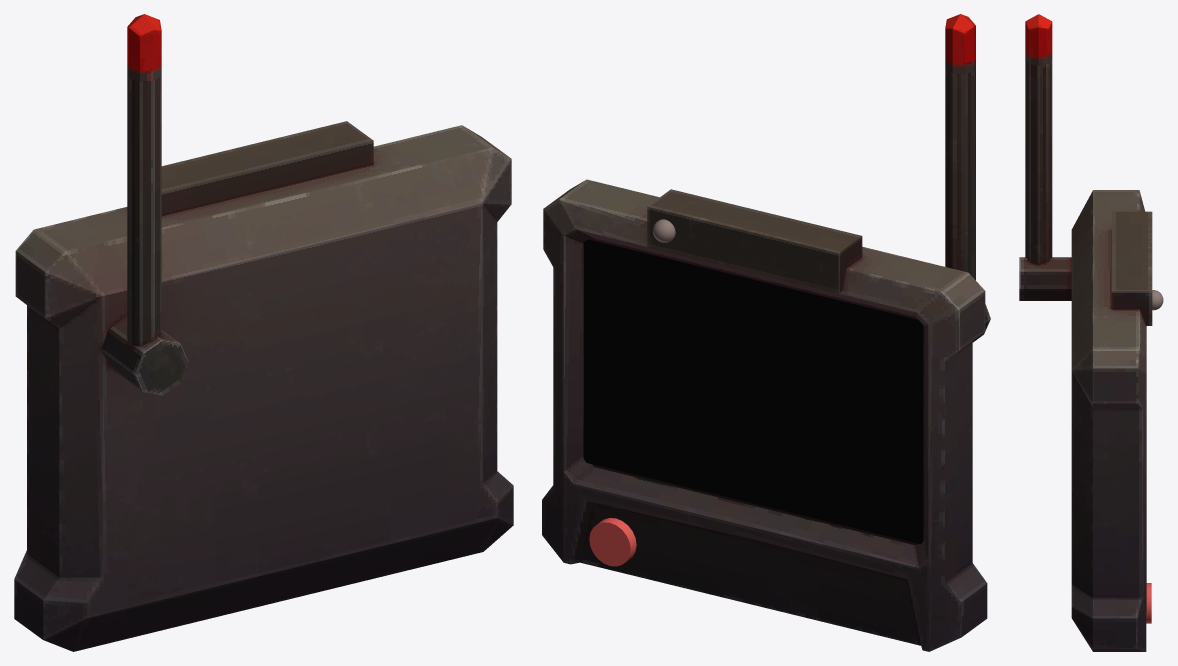
Rendered from item_film_directors_tablet.glb.
The picture shows the model from 3 angles, left to right: view 1: azimuth 30°, elevation 25°; view 2: azimuth 150°, elevation 25°; view 3: azimuth 270°, elevation 25°; orthographic projection. The views are drawn at different scales.
Visible parts, largest first — view 1: Tablet; view 2: Tablet, Quad, pCylinder1; view 3: Tablet, pCylinder1.
Boxes of the visible parts, x1=… form: Tablet: x1=14, y1=14, x2=513, y2=651; Tablet: x1=542, y1=14, x2=990, y2=651; Quad: x1=583, y1=239, x2=923, y2=544; pCylinder1: x1=589, y1=518, x2=636, y2=566; Tablet: x1=1019, y1=14, x2=1152, y2=651; pCylinder1: x1=1146, y1=583, x2=1151, y2=623.
Size of the model in its own units: 0.284 by 0.378 by 0.0989.
Materials: 4 (1 with a texture image).
